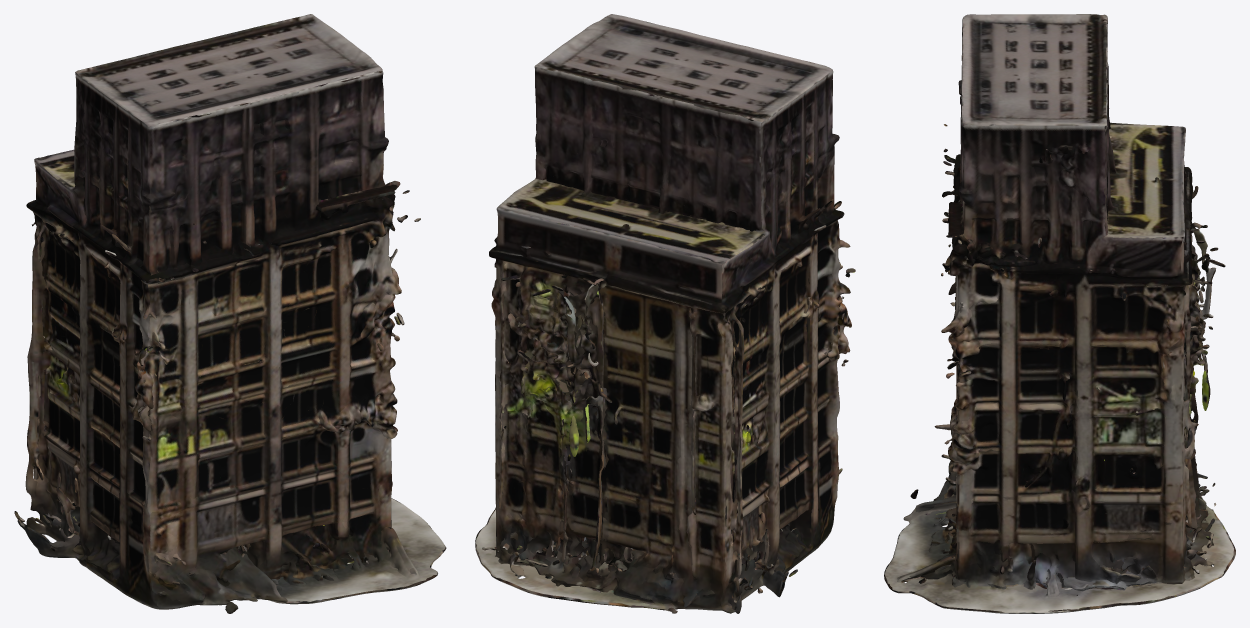
The model's file is tower-f9c9aea1776a.glb.
The picture shows the model from 3 angles, left to right: view 1: azimuth 30°, elevation 25°; view 2: azimuth 150°, elevation 25°; view 3: azimuth 270°, elevation 25°; orthographic projection. The views are drawn at different scales.
Parts seen in each view (by area): view 1: tmpb6qymi3i.ply; view 2: tmpb6qymi3i.ply; view 3: tmpb6qymi3i.ply.
Boxes of the visible parts, x1=… form: tmpb6qymi3i.ply: x1=14, y1=14, x2=446, y2=613; tmpb6qymi3i.ply: x1=475, y1=14, x2=855, y2=613; tmpb6qymi3i.ply: x1=884, y1=14, x2=1235, y2=613.
Size of the model in its own units: 1.46 by 2 by 1.38.
1 material, 1 textured.
